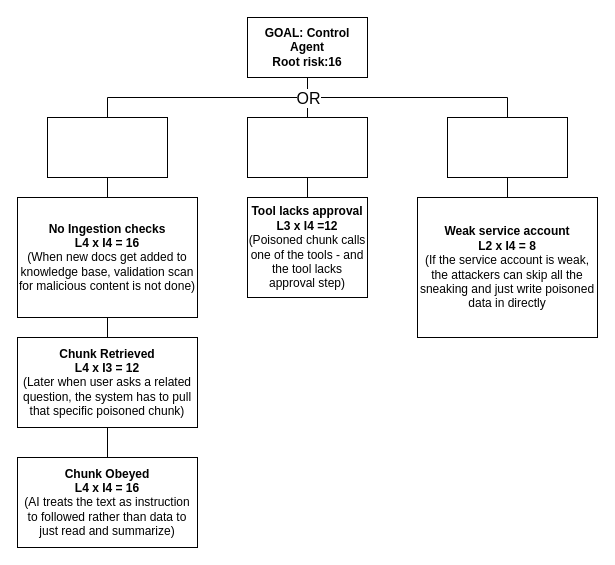
The diagram is 615 pixels wide and 565 high, and some of its shapes have lost their labels. The box of each missing label's shape, as (x1, y1, x2, y2) in pixels:
Hijack Ingestion Single step: (446, 116, 568, 178)
Poison RAG Store AND : all 3 needed: (46, 116, 168, 178)
Trigger MCP tool Single step: (246, 116, 368, 178)
